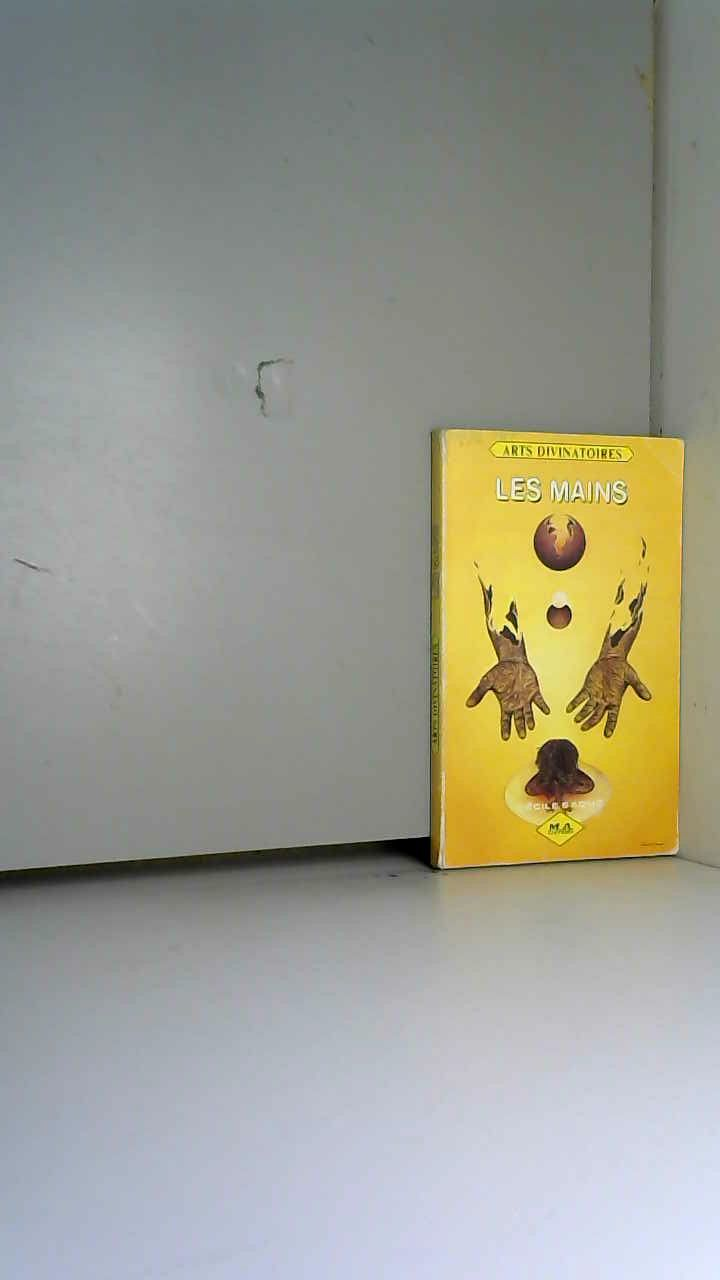book: (410, 400, 718, 901)
